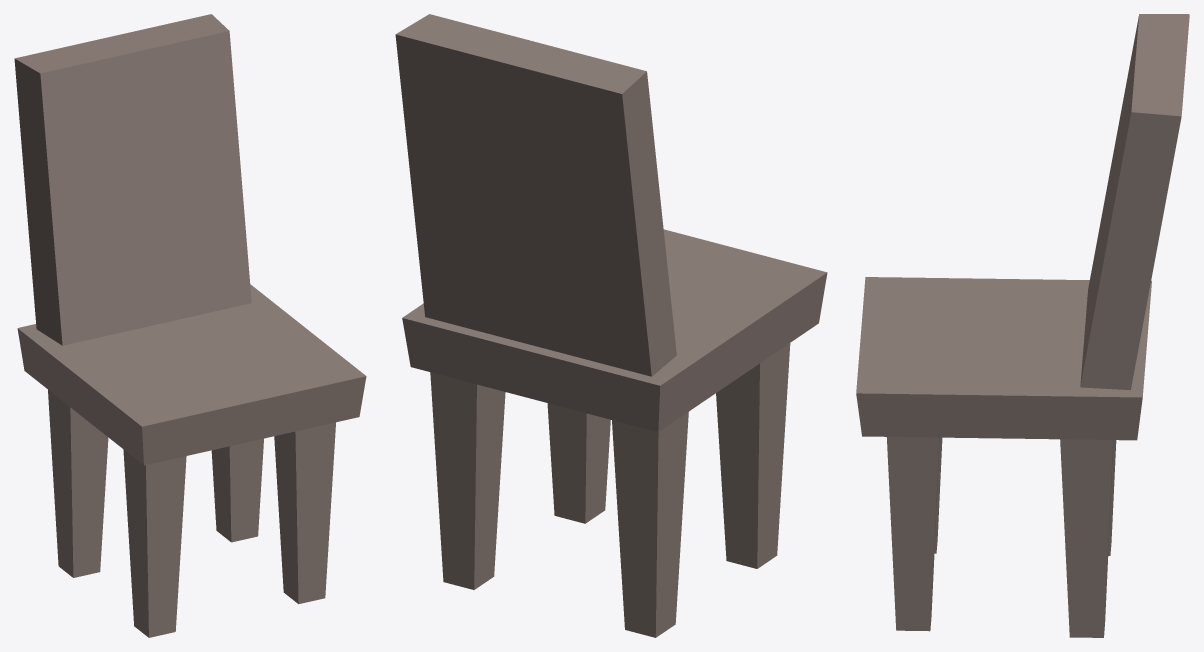
The model's file is silla.fbx.
3 renders of one model, left to right at view 1: azimuth 30°, elevation 25°; view 2: azimuth 150°, elevation 25°; view 3: azimuth 270°, elevation 25°, orthographic. The views are drawn at different scales.
Parts seen in each view (by area): view 1: asd:pCube27, asd:pCube26, asd:pCube24, asd:pCube25, asd:pCube23, asd:pCube22; view 2: asd:pCube27, asd:pCube26, asd:pCube23, asd:pCube22, asd:pCube24, asd:pCube25; view 3: asd:pCube26, asd:pCube27, asd:pCube22, asd:pCube25.
Part boxes in pixels (x1,y1,x2,y2): asd:pCube27: [14, 14, 251, 345]; asd:pCube26: [17, 284, 366, 465]; asd:pCube24: [123, 449, 186, 637]; asd:pCube25: [274, 422, 335, 604]; asd:pCube23: [48, 390, 108, 577]; asd:pCube22: [211, 438, 263, 542]; asd:pCube27: [395, 14, 676, 376]; asd:pCube26: [402, 229, 827, 432]; asd:pCube23: [612, 412, 688, 637]; asd:pCube22: [430, 372, 505, 589]; asd:pCube24: [716, 343, 790, 568]; asd:pCube25: [547, 403, 610, 523]; asd:pCube26: [856, 277, 1151, 440]; asd:pCube27: [1080, 14, 1189, 390]; asd:pCube22: [1060, 439, 1113, 637]; asd:pCube25: [886, 437, 939, 631].
Bounding box in the file's own units: 89.03 × 181 × 104.
